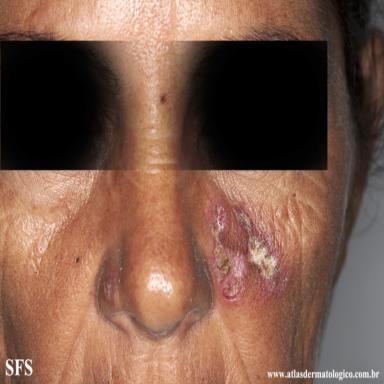Lupus-Erythematosus-Chronicus-Discoides: (206, 201, 297, 309)
